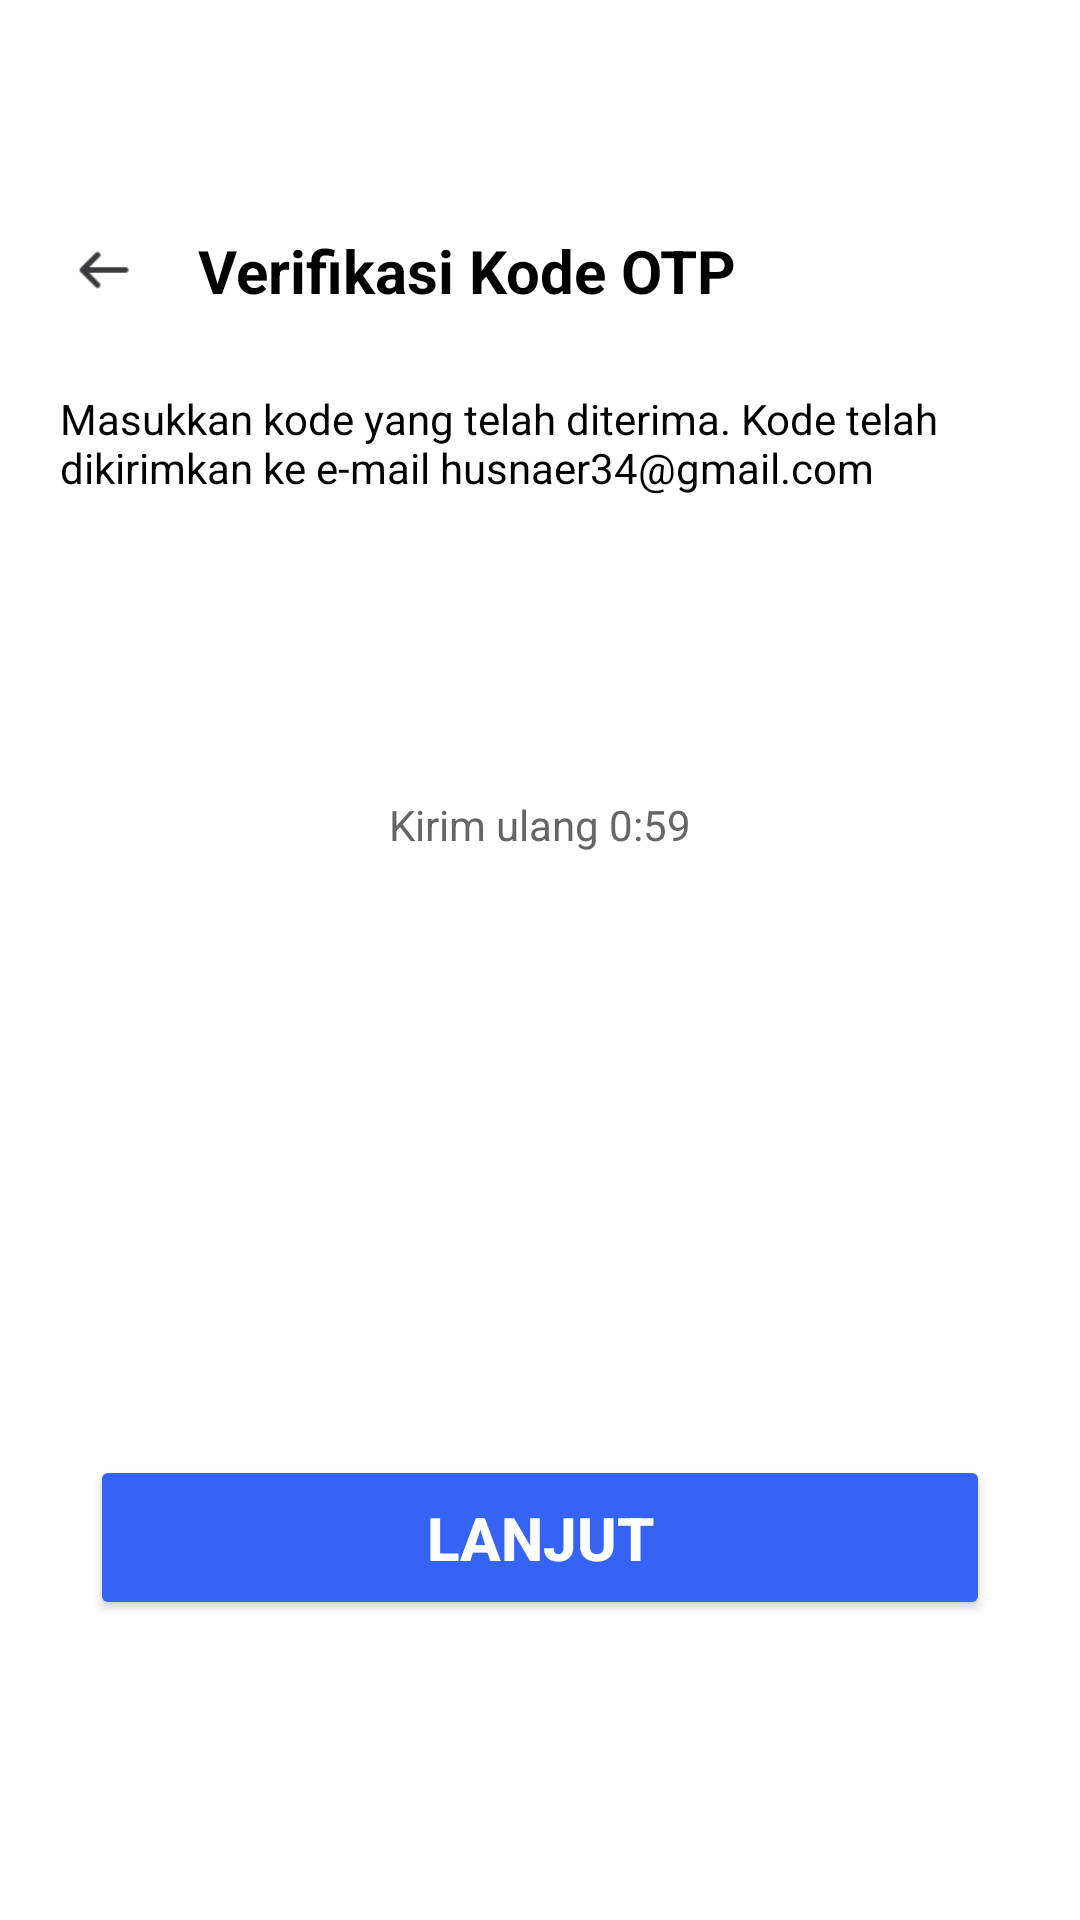

Icons on this 1080px x 1920px Android screen, each with the point to tap as point (x, y):
Kembali ke halaman sebelumnya: point (104, 270)
